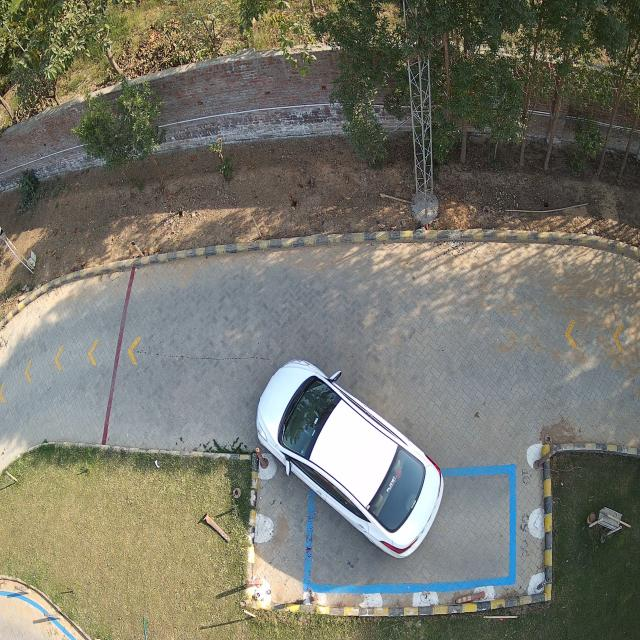car: (256, 360, 444, 558)
